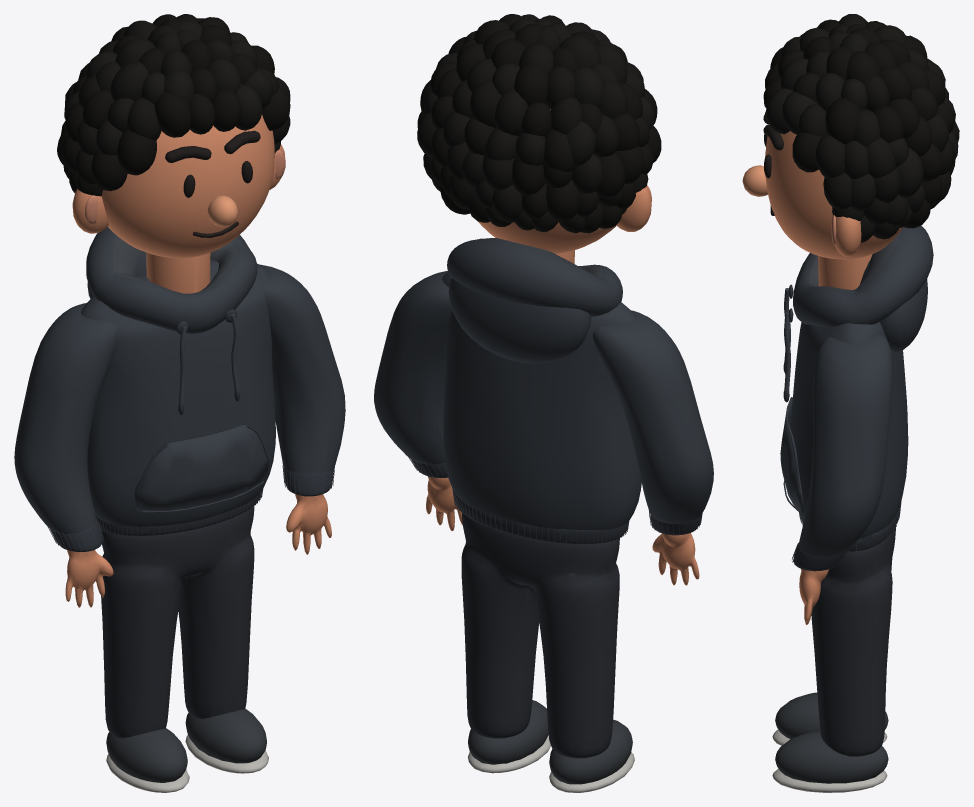
Rendered from avatar-model-v1.glb.
3 renders of one model, left to right at view 1: azimuth 30°, elevation 25°; view 2: azimuth 150°, elevation 25°; view 3: azimuth 270°, elevation 25°, orthographic. The views are drawn at different scales.
Parts seen in each view (by area): view 1: Avatar · estudio de modelado v1; view 2: Avatar · estudio de modelado v1; view 3: Avatar · estudio de modelado v1.
Boxes of the visible parts, x1,y1,x2,y2 form: Avatar · estudio de modelado v1: (14,14,345,792); Avatar · estudio de modelado v1: (374,14,713,792); Avatar · estudio de modelado v1: (742,14,959,792).
Size of the model in its own units: 2.92 by 6.38 by 1.7.
